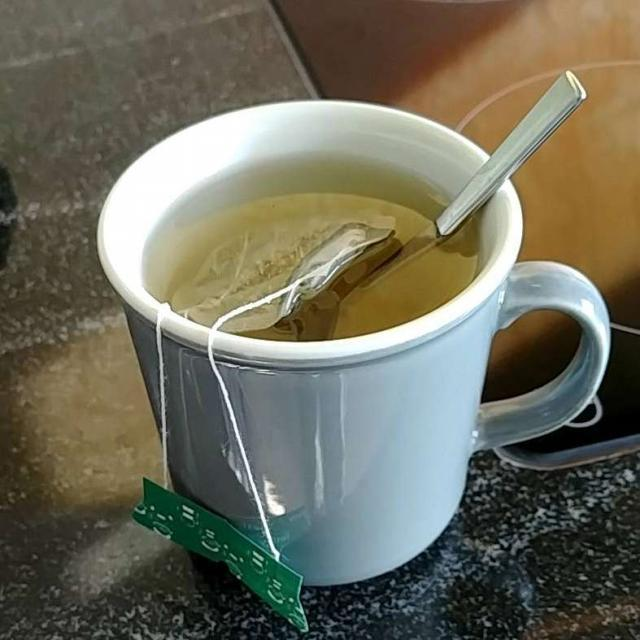tea: (159, 182, 479, 337)
